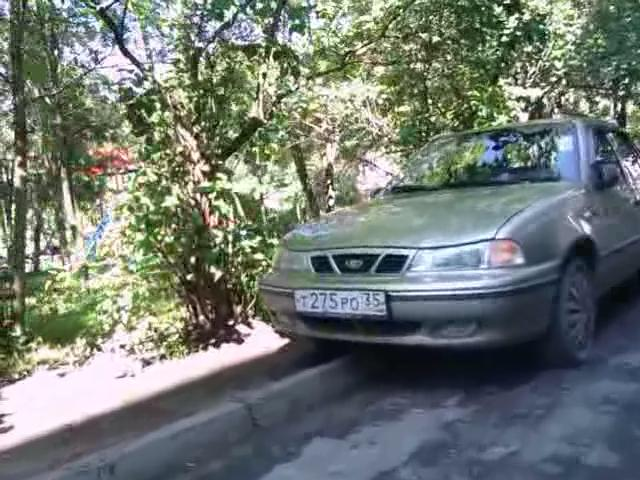car license plate: (292, 286, 387, 321)
